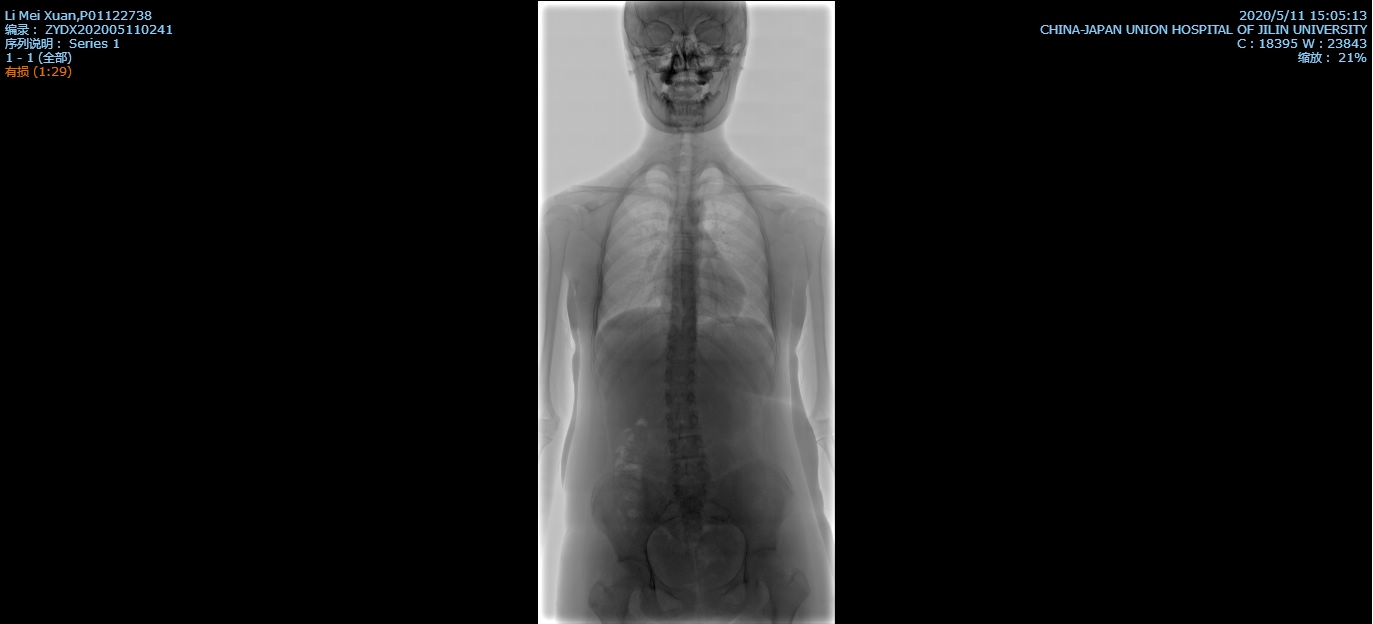Bone: (670, 440, 704, 457), (666, 413, 698, 430), (676, 465, 706, 483), (669, 367, 696, 386), (667, 392, 696, 406), (669, 346, 696, 360), (669, 326, 694, 340), (669, 306, 694, 320), (671, 286, 693, 301), (672, 269, 693, 282), (672, 237, 692, 249), (673, 254, 693, 264)
